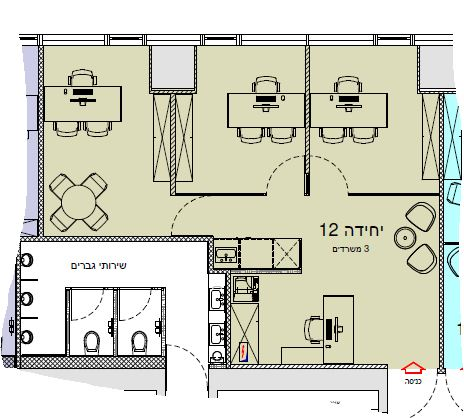wall: (19, 356, 162, 368), (35, 235, 211, 242), (37, 45, 43, 237)
window: (40, 31, 108, 50), (144, 32, 204, 50)
